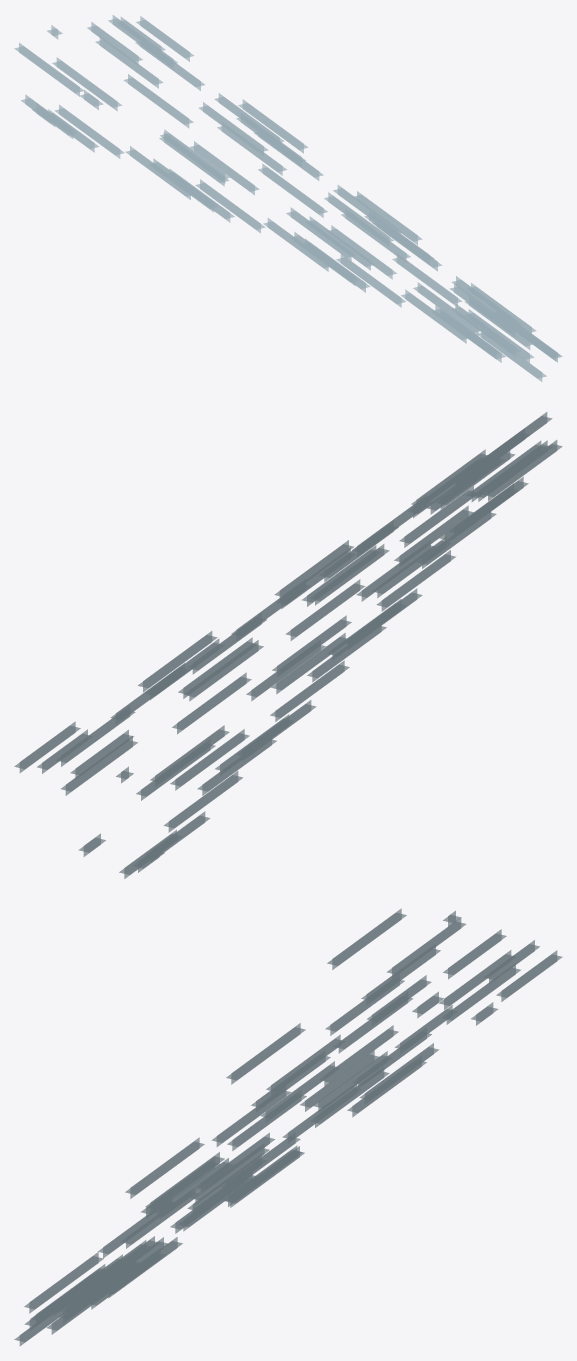
The model's file is wp_water_333.obj.
3 renders of one model, top to bottom at view 1: azimuth 30°, elevation 25°; view 2: azimuth 150°, elevation 25°; view 3: azimuth 330°, elevation 25°, orthographic. The views are drawn at different scales.
Size of the model in its own units: 0.3151 by 0.2526 by 1.73.
1 material, 1 textured.
